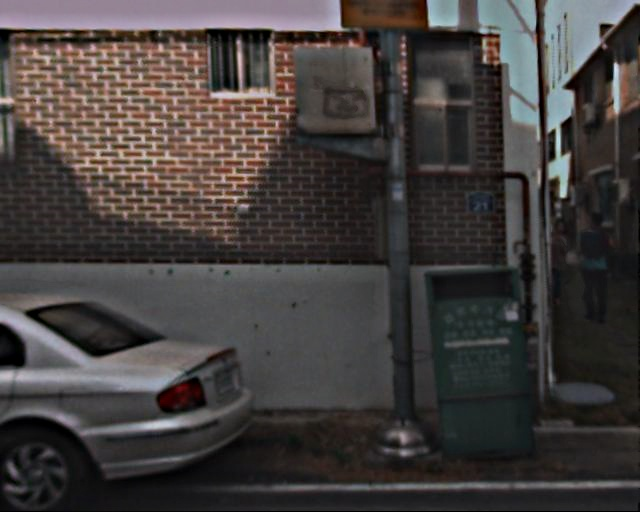person: (565, 211, 620, 327), (530, 220, 578, 311)
